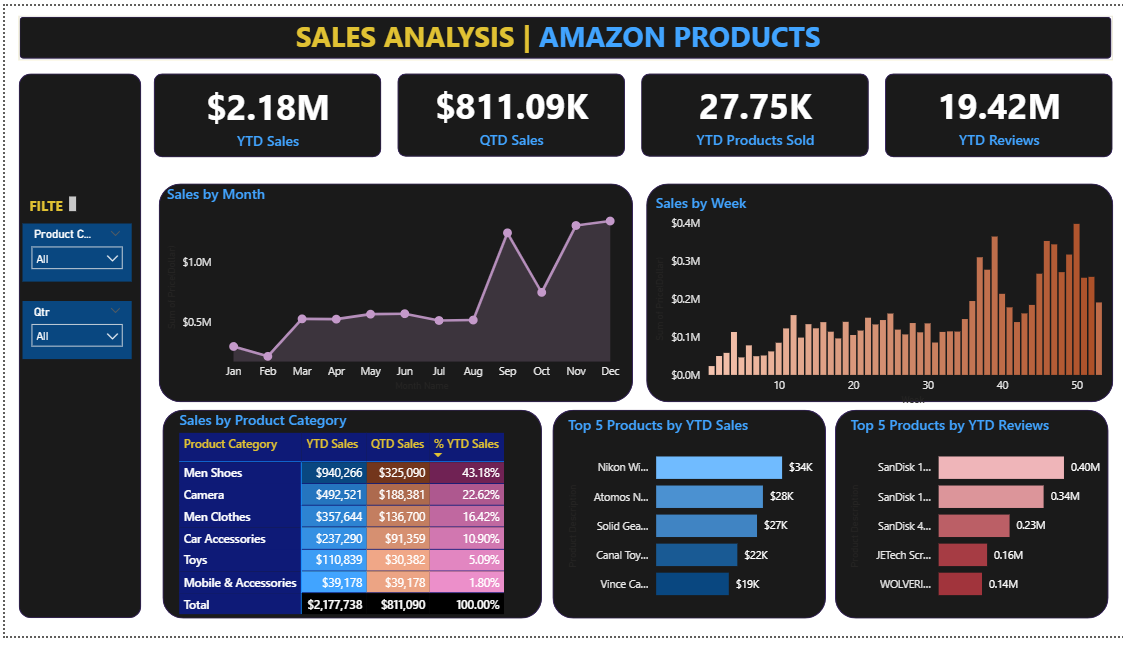

This screenshot's page, from the dashboard's own definition file:
{"tool":"powerbi","page":{"name":"Page 1","canvas":[1280,720],"ordinal":0},"visuals":[{"type":"shape","box":[170,77.1,260,95.7],"z":0,"group":"g1"},{"type":"shape","box":[15,11.2,1250,50],"z":0},{"type":"card","fields":{"Values":["Amazon_Data.YTD Sales"]},"box":[175.7,77.1,250,95.7],"z":1000,"group":"g1"},{"type":"textbox","box":[327.5,7.5,625,58.8],"z":1000},{"type":"shape","box":[448.6,77.5,260,95],"z":2000,"group":"g1"},{"type":"shape","box":[15,77.5,140,622.5],"z":2000},{"type":"shape","box":[727.1,77.5,260,95],"z":3000,"group":"g1"},{"type":"group","id":"g1","title":"Group 1","box":[170,77.1,1095.7,95.7],"z":3000},{"type":"shape","box":[1005.7,77.1,260,95.7],"z":4000,"group":"g1"},{"type":"shape","box":[175.7,202.9,542,250],"z":4000},{"type":"card","fields":{"Values":["Amazon_Data.QTD Sales"]},"box":[453.8,77.5,250,95],"z":5000,"group":"g1"},{"type":"areaChart","title":"Sales by Month","fields":{"Category":["Date Table.Month Name"],"Y":["Sum(Amazon_Data.Price(Dollar))"]},"box":[180,202.5,532.5,242.5],"z":5000},{"type":"card","fields":{"Values":["Amazon_Data.YTD Products Sold"]},"box":[732.5,77.5,250,95],"z":6000,"group":"g1"},{"type":"shape","box":[732.5,202.5,533.8,250],"z":6000},{"type":"card","fields":{"Values":["Amazon_Data.YTD Reviews"]},"box":[1011.2,77.5,250,95],"z":7000,"group":"g1"},{"type":"columnChart","title":"Sales by Week","fields":{"Category":["Date Table.Week"],"Y":["Sum(Amazon_Data.Price(Dollar))"]},"box":[738.8,212.5,541.2,248.8],"z":7000},{"type":"shape","box":[180,461.2,433.8,238.8],"z":8000},{"type":"pivotTable","title":"Sales by Product Category","fields":{"Rows":["Amazon_Data.Product Category"],"Values":["Amazon_Data.YTD Sales1","Amazon_Data.QTD Sales","Amazon_Data.YTD Sales"]},"box":[193.8,461.2,400,252.5],"z":9000},{"type":"shape","box":[626.2,461.2,312.5,238.8],"z":10000},{"type":"shape","box":[948.8,461.2,312.5,238.8],"z":11000},{"type":"clusteredBarChart","title":"Top 5 Products by YTD Sales","fields":{"Category":["Amazon_Data.Product Description"],"Y":["Amazon_Data.YTD Sales"]},"box":[638.9,467.8,300,225.6],"z":12000},{"type":"clusteredBarChart","title":"Top 5 Products by YTD Reviews","fields":{"Category":["Amazon_Data.Product Description"],"Y":["Amazon_Data.YTD Reviews"]},"box":[961.1,467.8,300,225.6],"z":13000},{"type":"slicer","fields":{"Values":["Amazon_Data.Product Category"]},"box":[20,248.9,124.4,66.7],"z":14000},{"type":"slicer","fields":{"Values":["Date Table.Qtr"]},"box":[20,336.7,124.4,66.7],"z":15000},{"type":"textbox","box":[22.2,212.2,63.3,33.3],"z":16000}]}

Visuals, with their boxes in screenshot pixels (x1, y1, x2, y2), scaled from the page's 1280x720 canvas onto the 1123x645 screenshot:
shape: 149:69:377:155
shape: 13:10:1110:55
card - Amazon_Data.YTD Sales: 154:69:373:155
textbox: 287:7:836:59
shape: 394:69:622:155
shape: 13:69:136:627
shape: 638:69:866:155
"Group 1" group: 149:69:1110:155
shape: 882:69:1110:155
shape: 154:182:630:406
card - Amazon_Data.QTD Sales: 398:69:617:155
"Sales by Month" areaChart: 158:181:625:399
card - Amazon_Data.YTD Products Sold: 643:69:862:155
shape: 643:181:1111:405
card - Amazon_Data.YTD Reviews: 887:69:1107:155
"Sales by Week" columnChart: 648:190:1122:413
shape: 158:413:539:627
"Sales by Product Category" pivotTable: 170:413:521:639
shape: 549:413:824:627
shape: 832:413:1107:627
"Top 5 Products by YTD Sales" clusteredBarChart: 561:419:824:621
"Top 5 Products by YTD Reviews" clusteredBarChart: 843:419:1106:621
slicer - Amazon_Data.Product Category: 18:223:127:283
slicer - Date Table.Qtr: 18:302:127:361
textbox: 19:190:75:220
